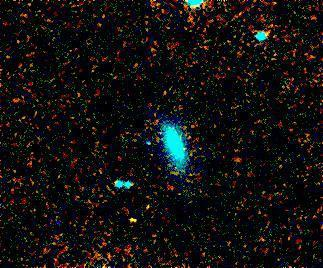star: (115, 203, 145, 233)
